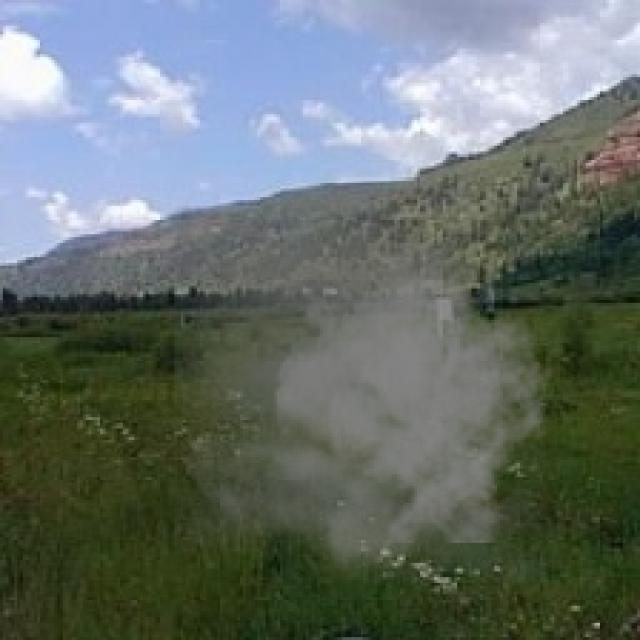smoke: (174, 217, 557, 583)
